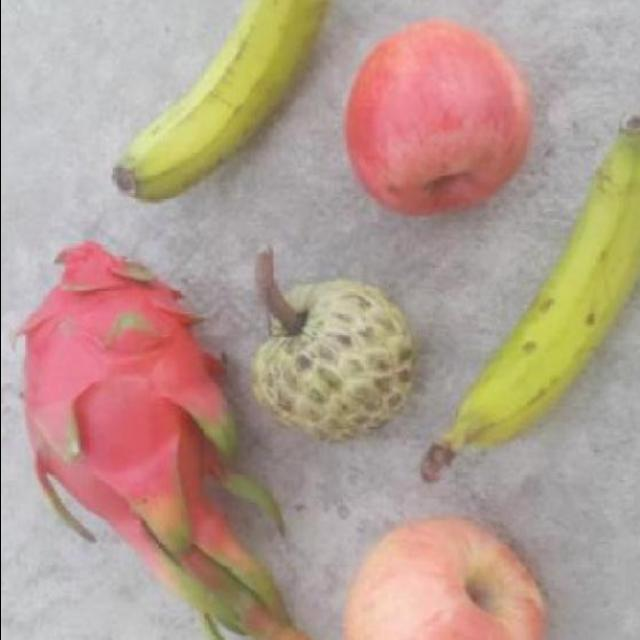apple: (338, 6, 538, 220), (338, 509, 558, 640)
banana: (414, 110, 640, 492), (108, 0, 335, 209)
dragon fruit: (0, 235, 236, 563)
sugar apple: (248, 259, 421, 443)
